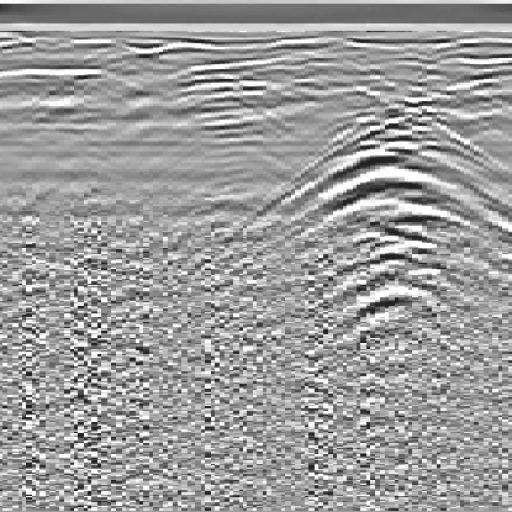metalic: (229, 71, 512, 352)
